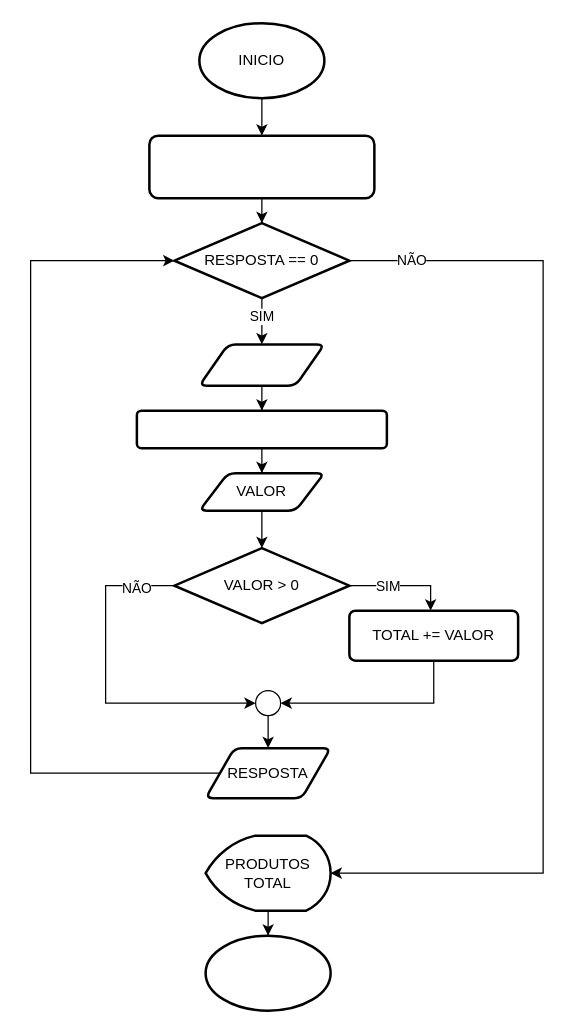
This 575x1033 diagram has some shape labels left out. Each missing label, with the box of its shape:
FIM: (204, 934, 331, 1011)
PRODUTO: (198, 342, 325, 386)
PRODUTOS +=PRODUTO: (135, 409, 388, 449)
RESPOSTA = 0 PRODUTOS = "" TOTAL = 0: (148, 134, 375, 199)
